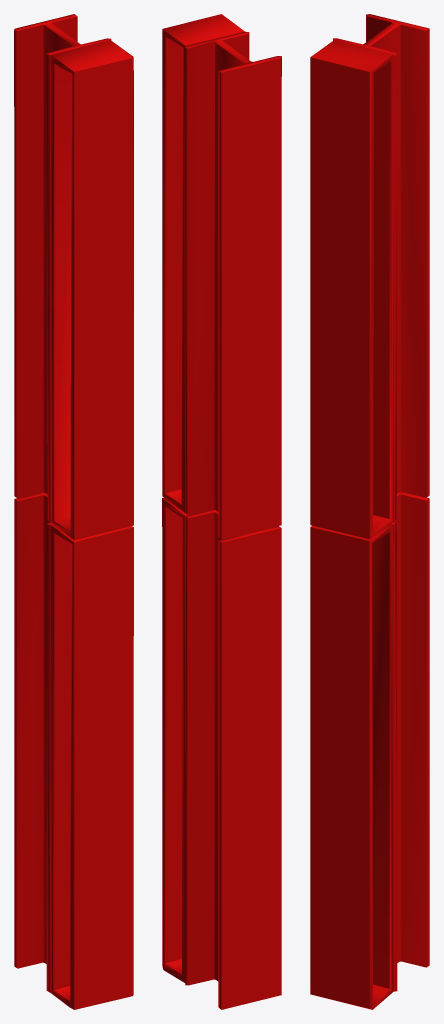
The picture shows the model from 3 angles, left to right: view 1: azimuth 30°, elevation 25°; view 2: azimuth 210°, elevation 25°; view 3: azimuth 330°, elevation 25°; orthographic projection.
Visible parts, largest first — view 1: Mesh; view 2: Mesh; view 3: Mesh.
Boxes of the visible parts, x1,y1,x2,y2 form: Mesh: (14,14,133,1009); Mesh: (162,14,281,1009); Mesh: (310,14,429,1009).
Size of the model in its own units: 1.15 by 16.01 by 1.84.
